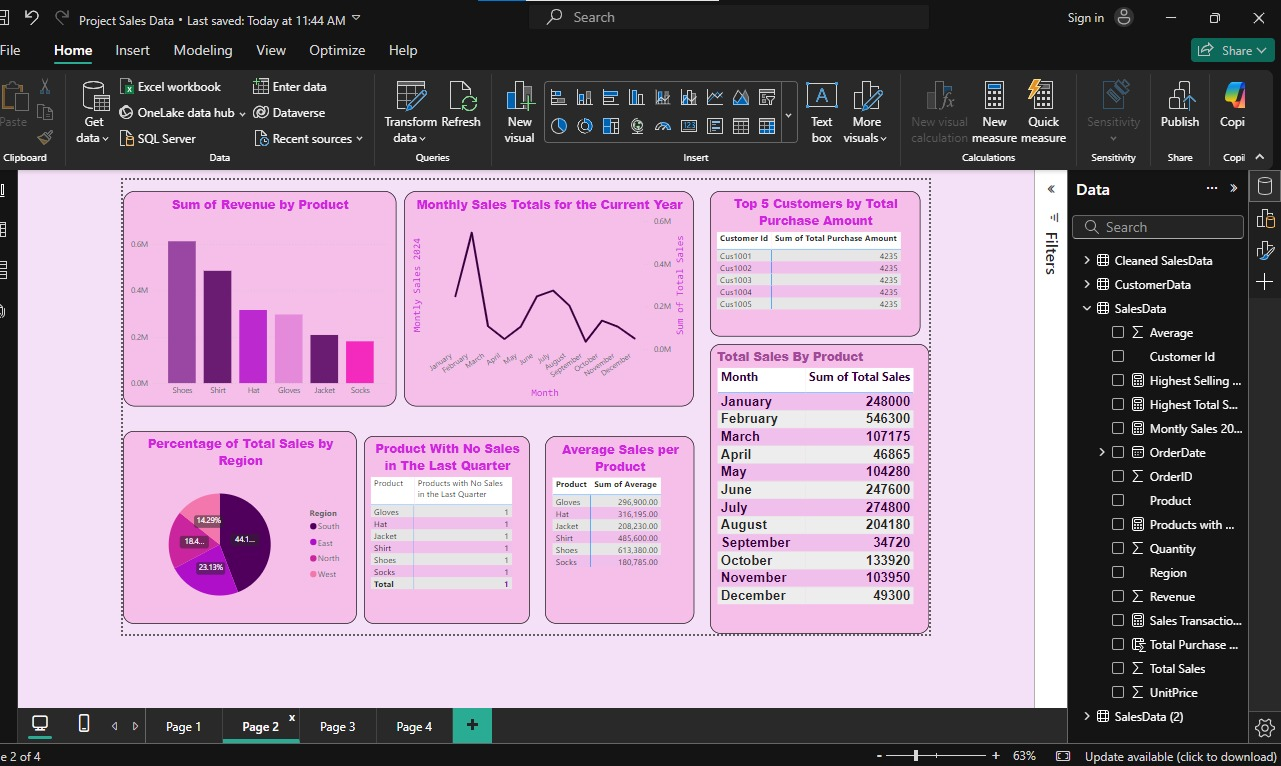

This screenshot's page, from the dashboard's own definition file:
{"tool":"powerbi","page":{"name":"Page 2","canvas":[1280,720],"ordinal":1},"visuals":[{"type":"columnChart","fields":{"Category":["SalesData.Product"],"Y":["Sum(SalesData.Revenue)"]},"box":[0,17.7,433.9,341.9],"z":0},{"type":"lineClusteredColumnComboChart","title":"Monthly Sales Totals for the Current Year","fields":{"Category":["SalesData.OrderDate.Variation.Date Hierarchy.Month"],"Y":["SalesData.Montly Sales 2024"],"Y2":["Sum(SalesData.Total Sales)"]},"box":[446.8,17.7,459.7,341.9],"z":1000},{"type":"pieChart","title":"Percentage of Total Sales by Region","fields":{"Category":["SalesData.Region"],"Y":["Sum(SalesData.Total Sales)"]},"box":[0,398.4,371,306.5],"z":2000},{"type":"pivotTable","title":"Average Sales per Product","fields":{"Rows":["SalesData.Product"],"Values":["Sum(SalesData.Average)"]},"box":[669.4,406.5,237.1,298.4],"z":3000},{"type":"pivotTable","title":"Top 5 Customers by Total Purchase Amount","fields":{"Rows":["SalesData.Customer Id"],"Values":["Sum(SalesData.Total Purchase Amount)"]},"box":[932.3,17.7,333.9,230.6],"z":4000},{"type":"pivotTable","title":"Product With No Sales in The Last Quarter","fields":{"Rows":["SalesData.Product"],"Values":["SalesData.Products with No Sales in the Last Quarter"]},"box":[382.3,406.5,262.9,298.4],"z":5000},{"type":"tableEx","title":"Total Sales By Product","fields":{"Values":["SalesData.OrderDate.Variation.Date Hierarchy.Month","Sum(SalesData.Total Sales)"]},"box":[932,260.6,348,459.9],"z":6000}]}

Visuals, with their boxes on the page's 1280x720 design canvas (x1, y1, x2, y2). These are canvas units, not pixel positions in the 1281x766 screenshot, which may show the page scaled, cropped or inside an application window:
columnChart - SalesData.Product x Sum(SalesData.Revenue): crop(0, 18, 434, 360)
"Monthly Sales Totals for the Current Year" lineClusteredColumnComboChart: crop(447, 18, 906, 360)
"Percentage of Total Sales by Region" pieChart: crop(0, 398, 371, 705)
"Average Sales per Product" pivotTable: crop(669, 406, 906, 705)
"Top 5 Customers by Total Purchase Amount" pivotTable: crop(932, 18, 1266, 248)
"Product With No Sales in The Last Quarter" pivotTable: crop(382, 406, 645, 705)
"Total Sales By Product" tableEx: crop(932, 261, 1280, 720)
